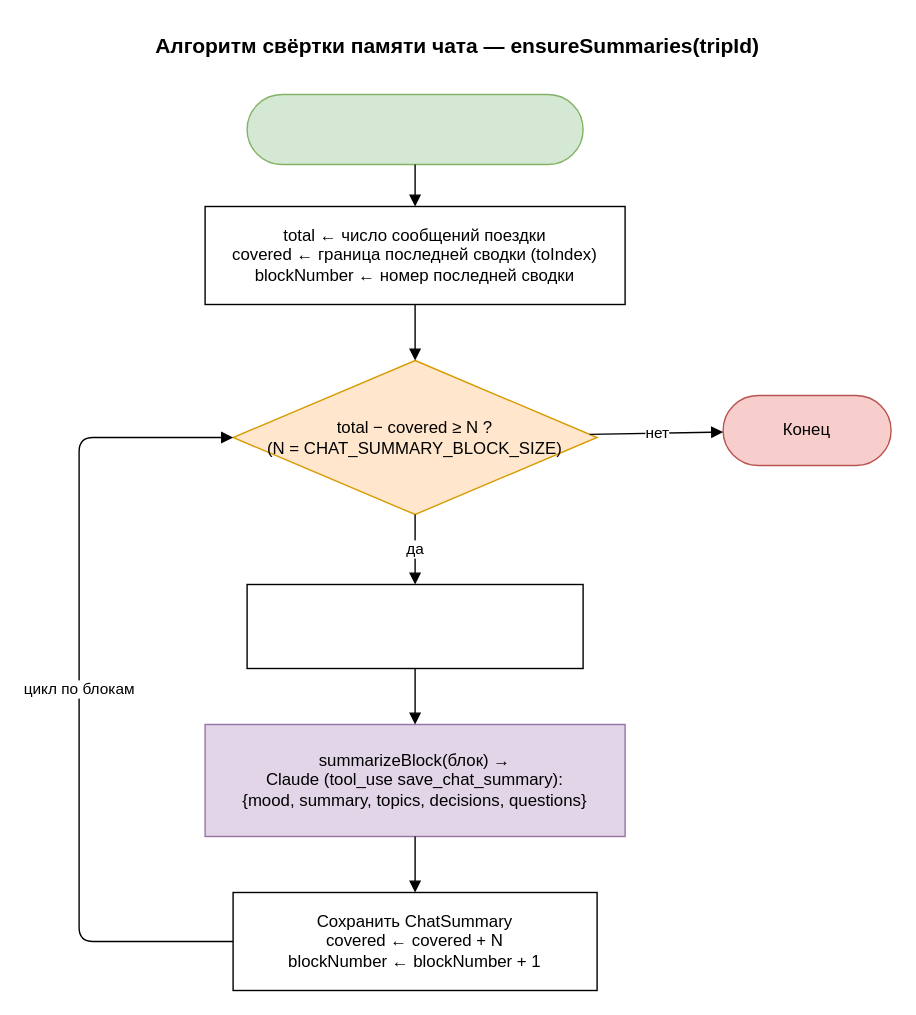
Some shapes in this 916 by 1015 pixel diagram are drawn without their labels. The shapes that lost their labels are listed below. From the top down, each one's centre as x and y in pixels, then its label:
At [414,128]: "Начало (после отправки сообщения)".
At [414,625]: "Взять блок сообщений skip = covered, take = N".
